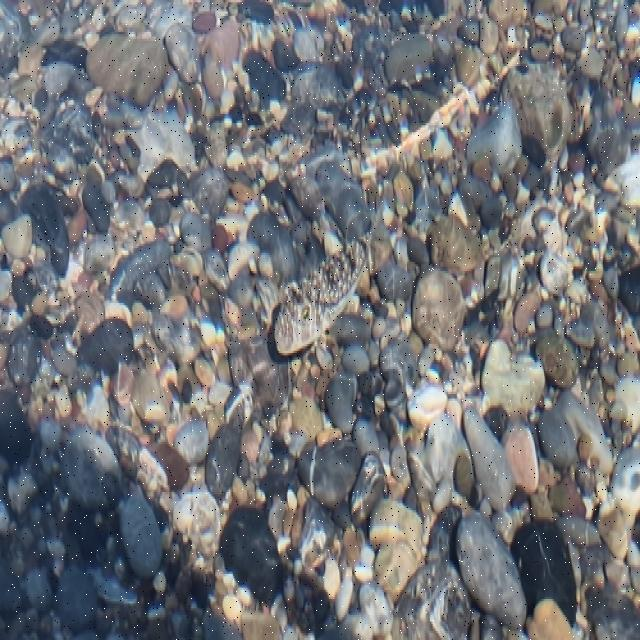Balik: (274, 235, 368, 355)
